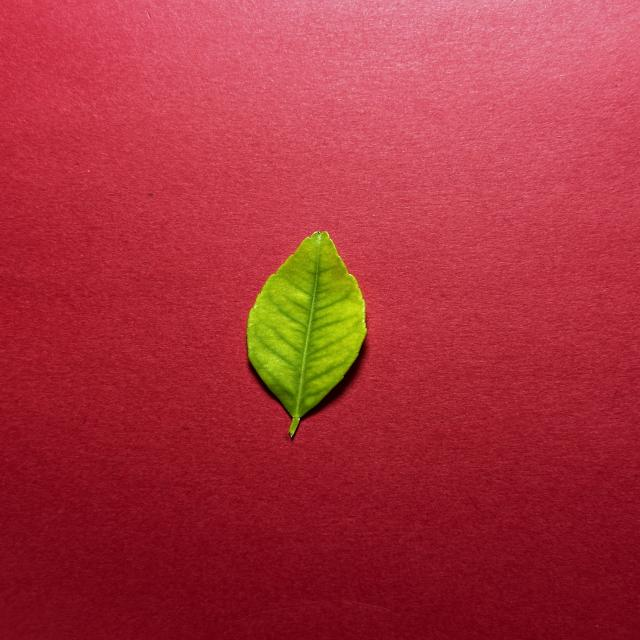greening: (247, 232, 366, 437)
